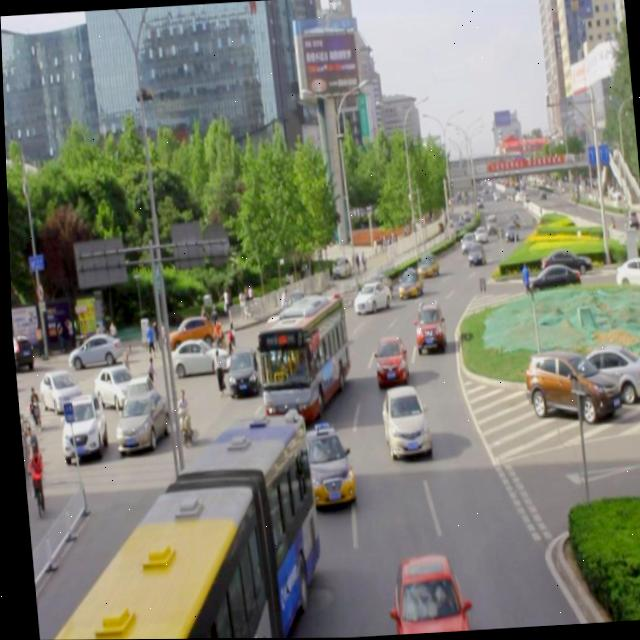car: (385, 551, 461, 636), (297, 424, 352, 505), (377, 384, 428, 459), (164, 336, 226, 377), (287, 310, 326, 362), (221, 349, 259, 401), (369, 335, 406, 385), (264, 336, 306, 380), (409, 302, 442, 352), (256, 317, 289, 362), (349, 281, 389, 315), (358, 272, 392, 299), (394, 268, 422, 299), (413, 253, 438, 279)
van: (17, 415, 317, 640), (253, 294, 349, 419)
